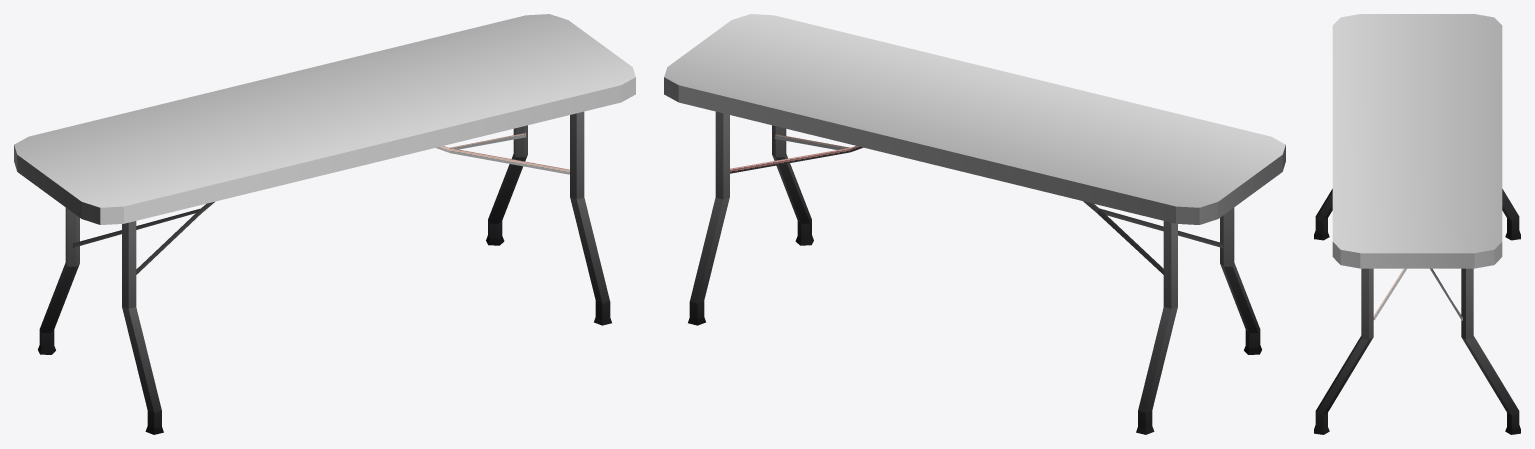
The model's file is SM_Counter_Table.fbx.
3 views of the same model, side by side, from view 1: azimuth 30°, elevation 25°; view 2: azimuth 150°, elevation 25°; view 3: azimuth 270°, elevation 25° (orthographic). The views are drawn at different scales.
Parts seen in each view (by area): view 1: Counter_Table; view 2: Counter_Table; view 3: Counter_Table.
Part boxes in pixels (x1,y1,x2,y2): Counter_Table: (14,14,635,434); Counter_Table: (664,14,1285,434); Counter_Table: (1314,14,1520,434).
Size of the model in its own units: 2 by 0.7823 by 0.7312.
